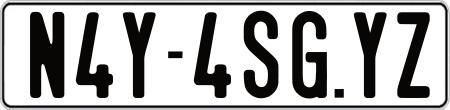4: (76, 9, 118, 101), (191, 11, 230, 98)
G: (290, 9, 325, 101)
N: (28, 10, 66, 102)
S: (242, 11, 279, 103)
Y: (354, 12, 392, 98), (123, 10, 156, 98)
Z: (397, 11, 436, 99)
